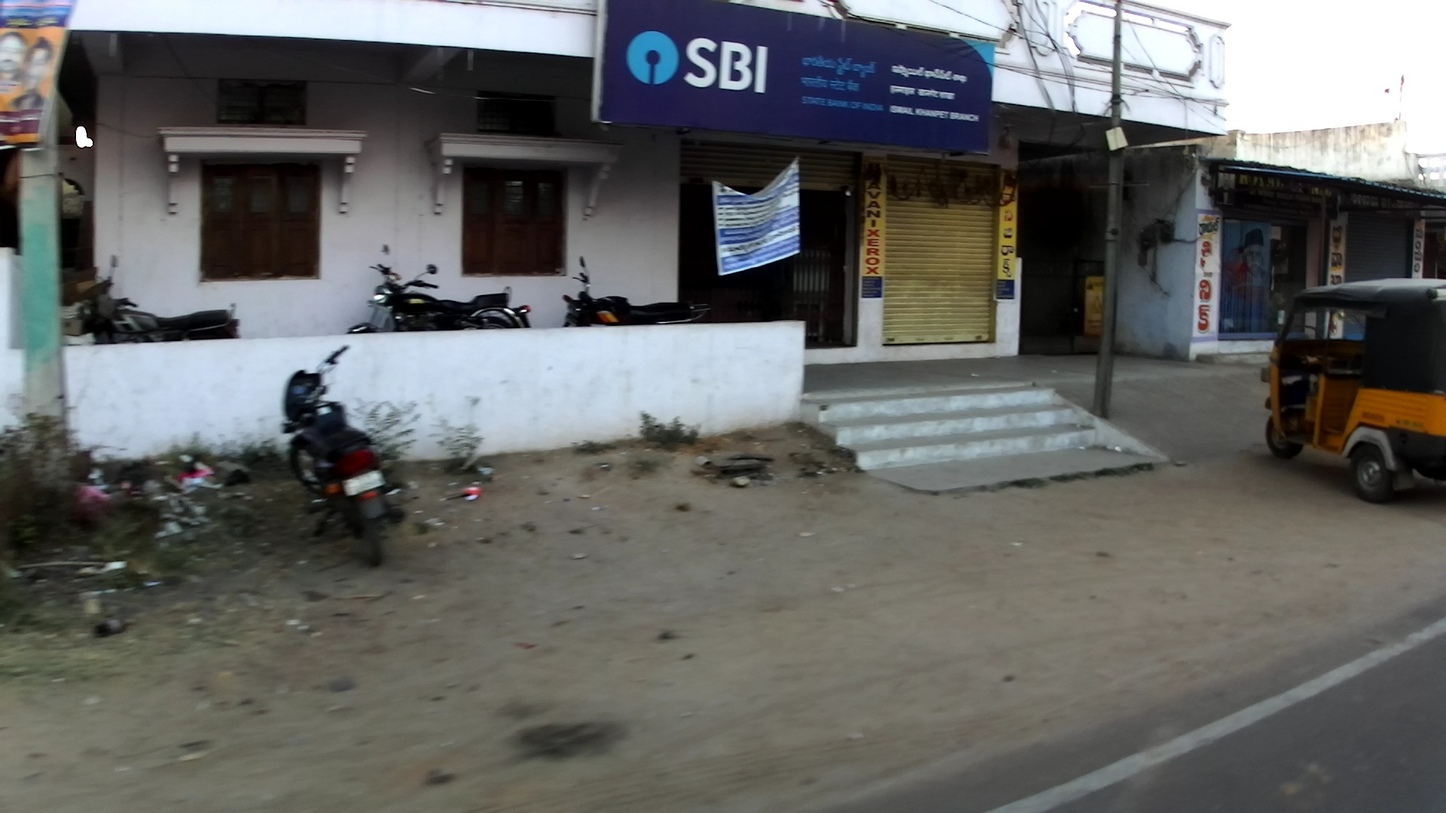autorickshaw: (1259, 278, 1446, 504)
motorcycle: (281, 346, 406, 568), (344, 245, 531, 336), (75, 254, 241, 347), (560, 255, 710, 327)
